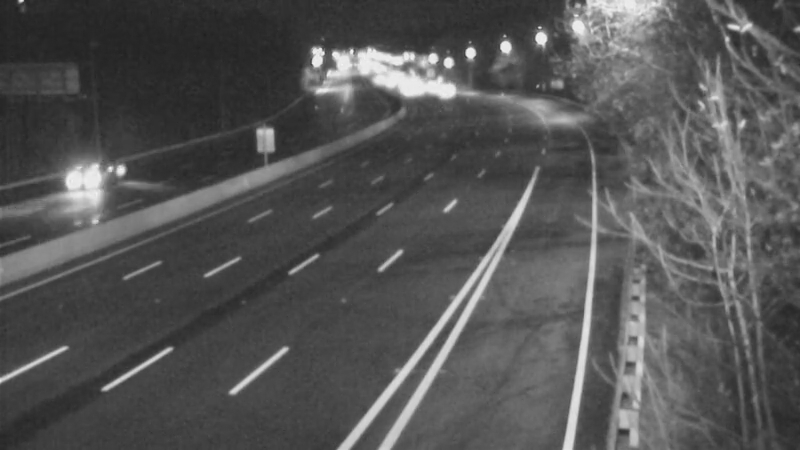vehicle: (40, 135, 120, 215)
